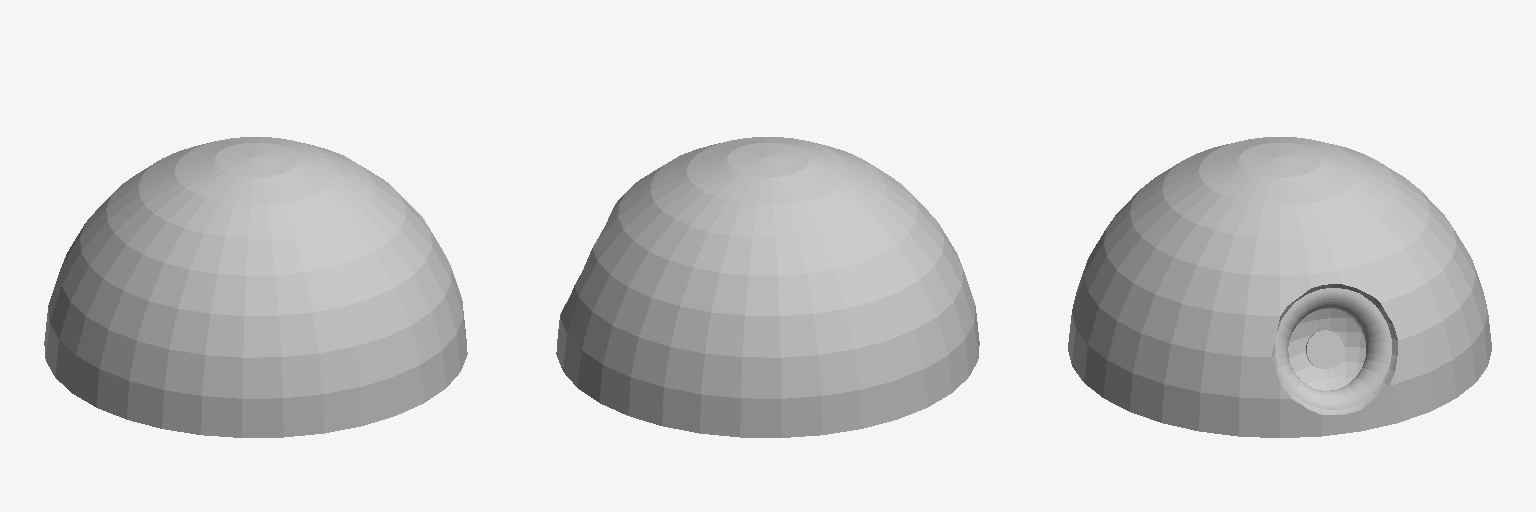
The model's file is DeathStarTop.obj.
3 views of the same model, side by side, from view 1: azimuth 30°, elevation 25°; view 2: azimuth 150°, elevation 25°; view 3: azimuth 270°, elevation 25° (orthographic).
Parts seen in each view (by area): view 1: Sphere_Sphere.001; view 2: Sphere_Sphere.001; view 3: Sphere_Sphere.001, SurfTorus.
Boxes of the visible parts, <box> form: Sphere_Sphere.001: <box>44,137,467,437</box>; Sphere_Sphere.001: <box>556,137,979,437</box>; Sphere_Sphere.001: <box>1068,137,1491,437</box>; SurfTorus: <box>1275,288,1391,409</box>.
Size of the model in its own units: 2 by 1.04 by 2.